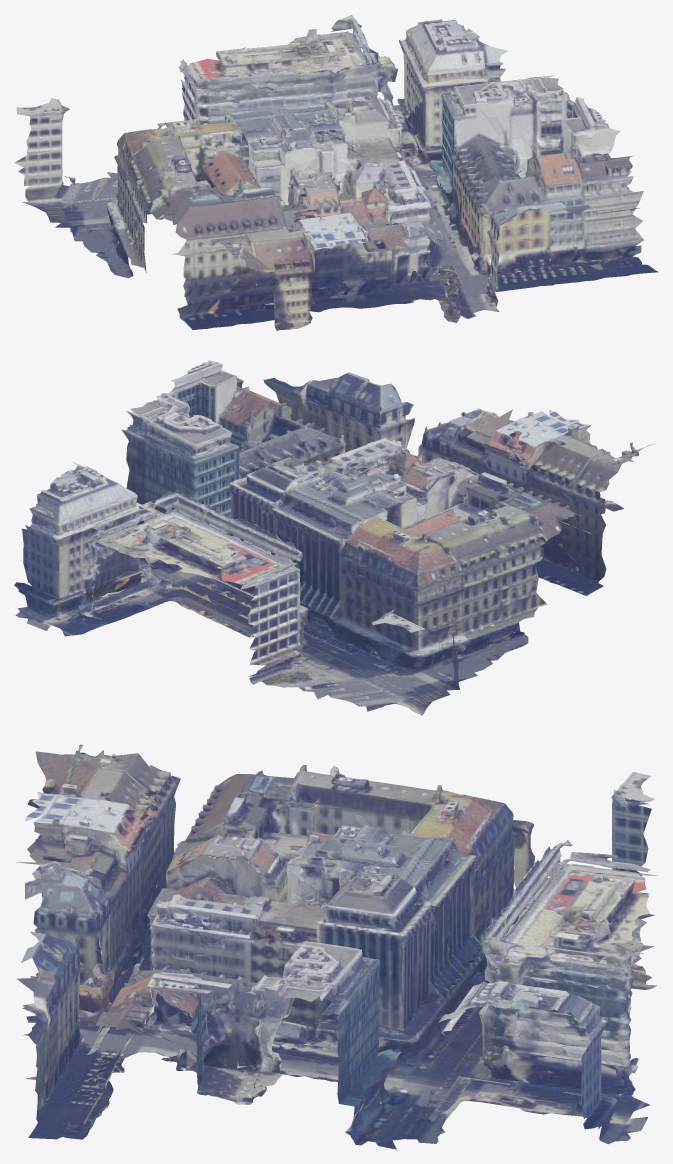
The picture shows the model from 3 angles, top to bottom: view 1: azimuth 30°, elevation 25°; view 2: azimuth 150°, elevation 25°; view 3: azimuth 270°, elevation 25°; orthographic projection. The views are drawn at different scales.
Bounding box in the file's own units: 108 × 29.22 × 109.
1 material, 1 textured.
